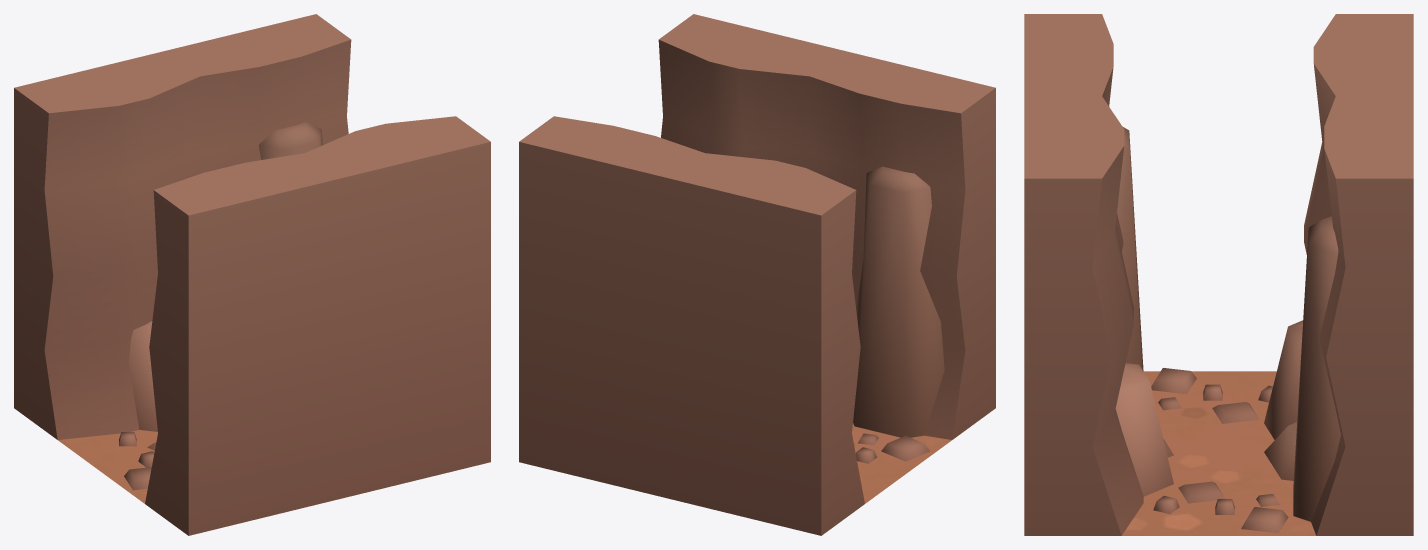
The model's file is corridor.glb.
3 views of the same model, side by side, from view 1: azimuth 30°, elevation 25°; view 2: azimuth 150°, elevation 25°; view 3: azimuth 270°, elevation 25° (orthographic). The views are drawn at different scales.
Visible parts, largest first — view 1: corridor; view 2: corridor; view 3: corridor.
Part boxes in pixels (x1,y1,x2,y2): corridor: [14, 14, 490, 535]; corridor: [519, 14, 995, 535]; corridor: [1024, 14, 1413, 535].
Bounding box in the file's own units: 4 × 4.05 × 4.
1 material, 1 textured.
